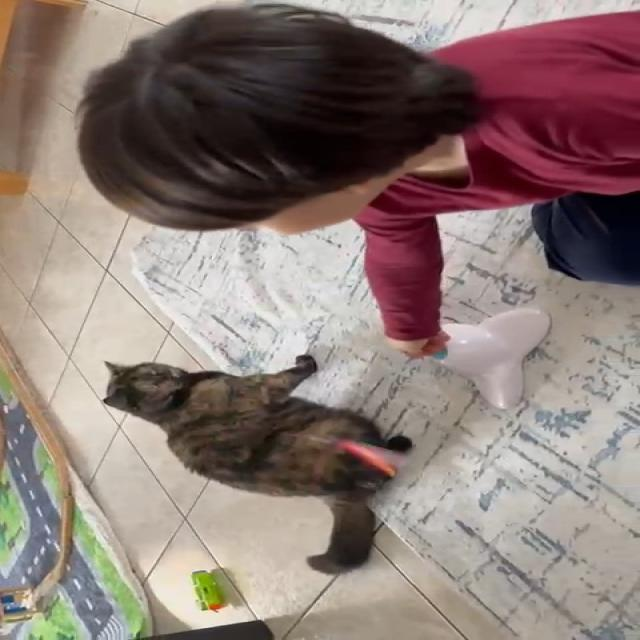authorized: (100, 354, 415, 570)
